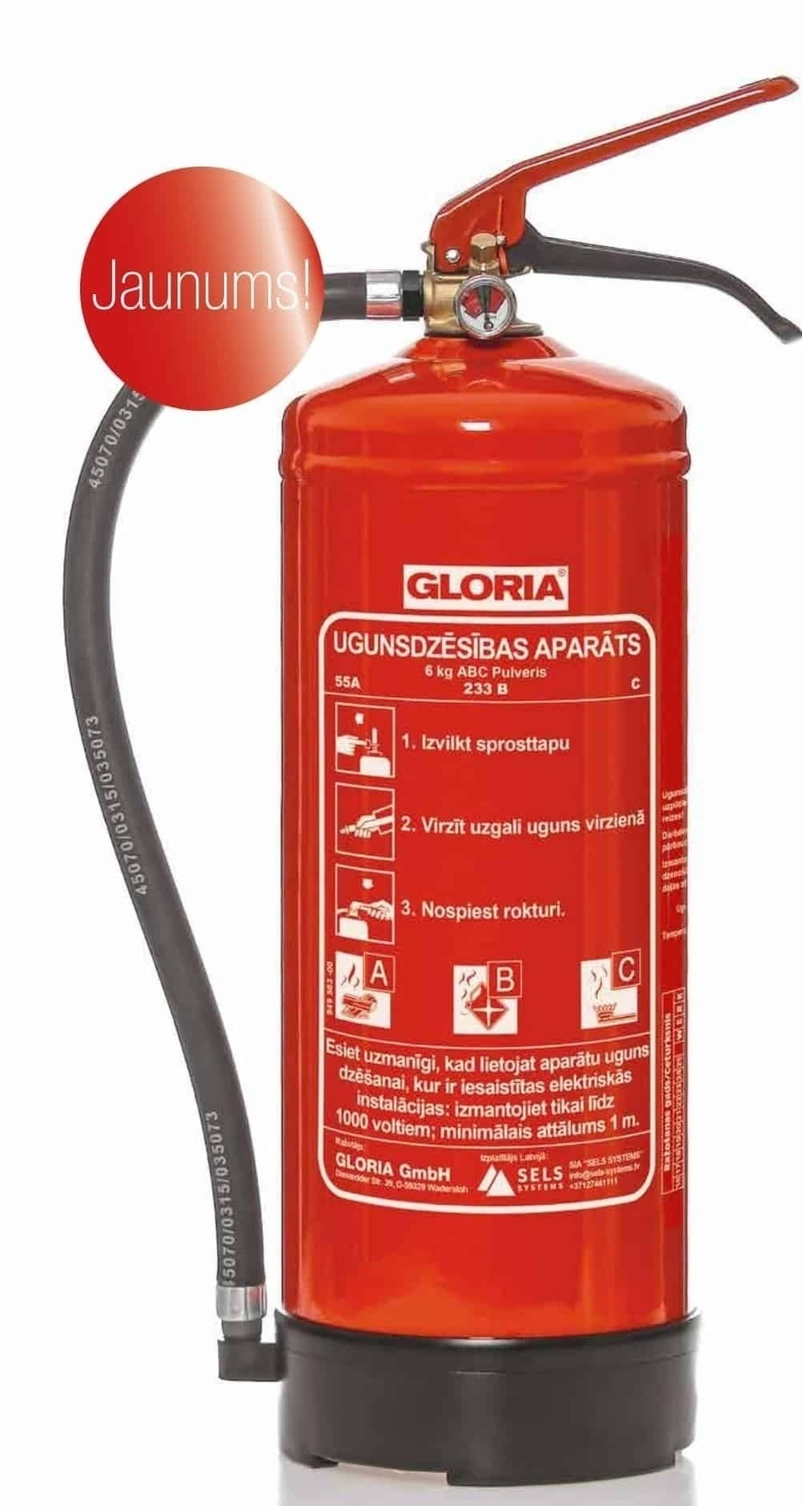fire_extinguisher: (62, 74, 800, 1488)
